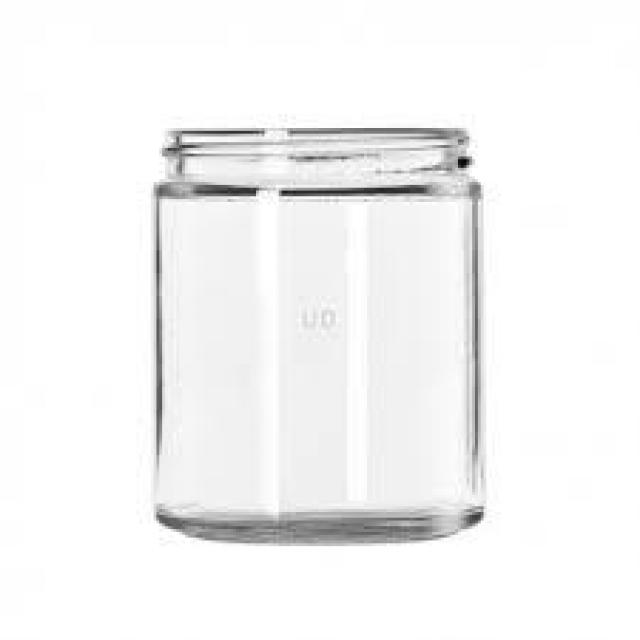non-organic waste: (144, 118, 488, 548)
